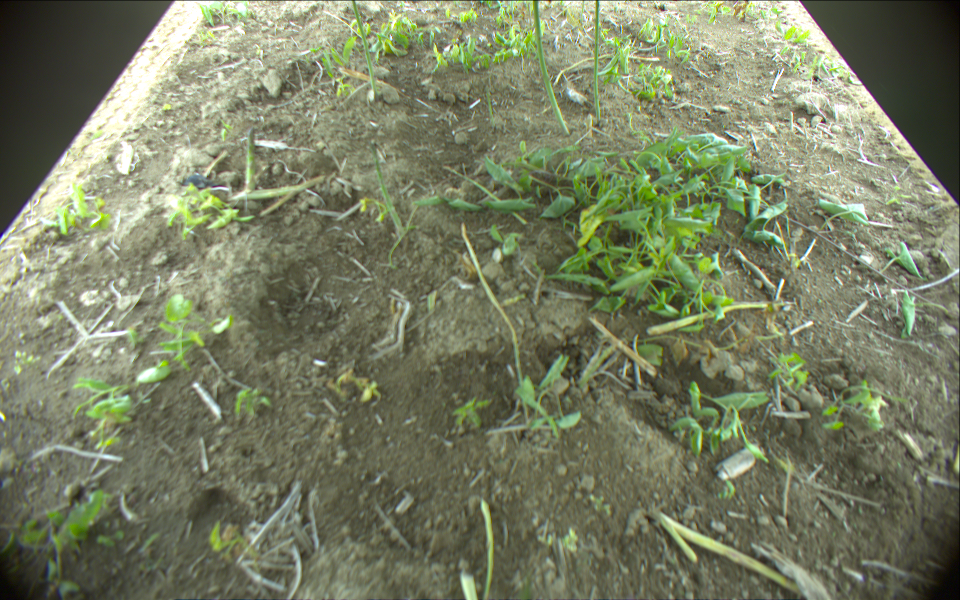aspa: (660, 513, 804, 595), (645, 300, 781, 338), (533, 1, 570, 134), (371, 140, 404, 239), (351, 1, 378, 103), (480, 498, 495, 600), (593, 1, 604, 121), (241, 128, 257, 192)
